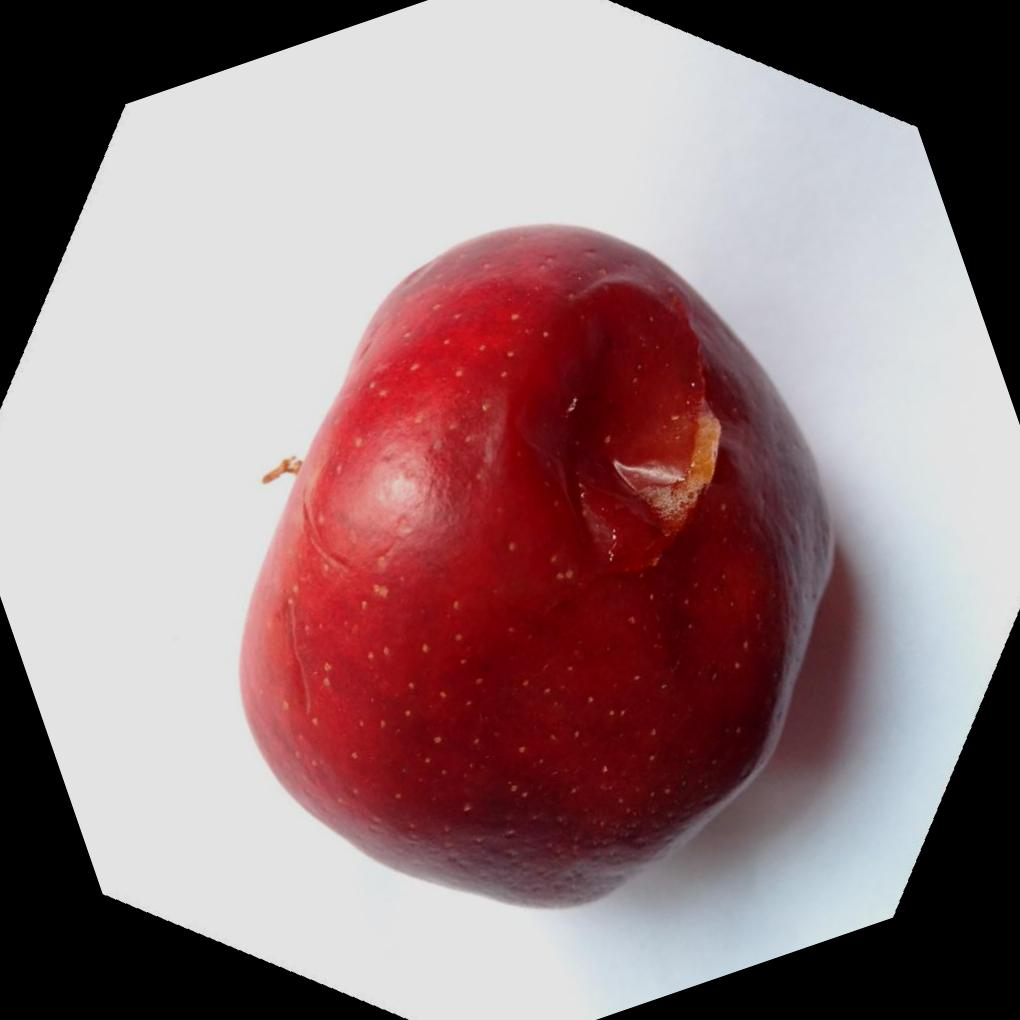FreshOrange: (239, 218, 841, 911)
